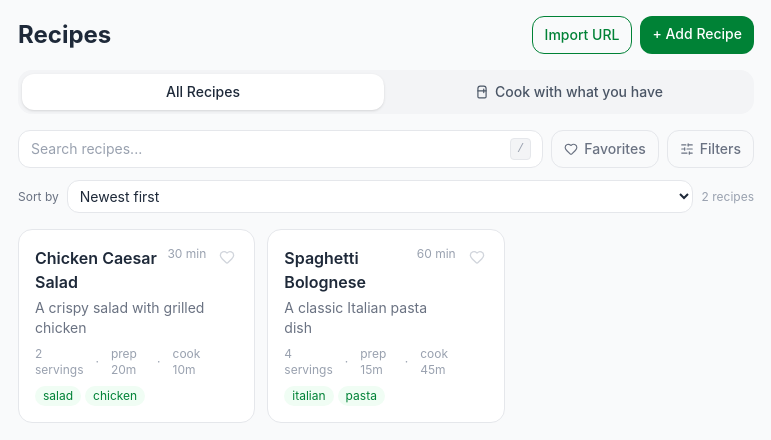
RecipesPage › search filtering › filters recipes by name
Expected: the heading "Spaghetti Bolognese" is shown, [284, 248, 366, 292]
Type "chicken" into the search field with placeholder "Search recipes..." at (281, 149), box [18, 130, 543, 168]
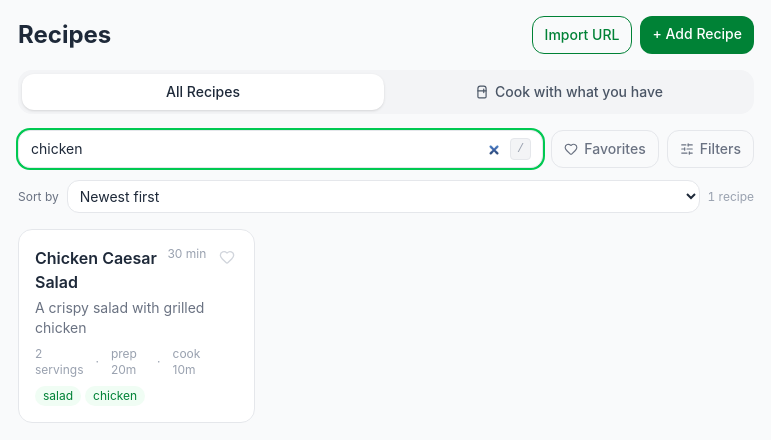
Expected: the heading "Chicken Caesar Salad" is shown, [35, 246, 160, 294]
Expected: the link "Spaghetti Bolognese" is gone
